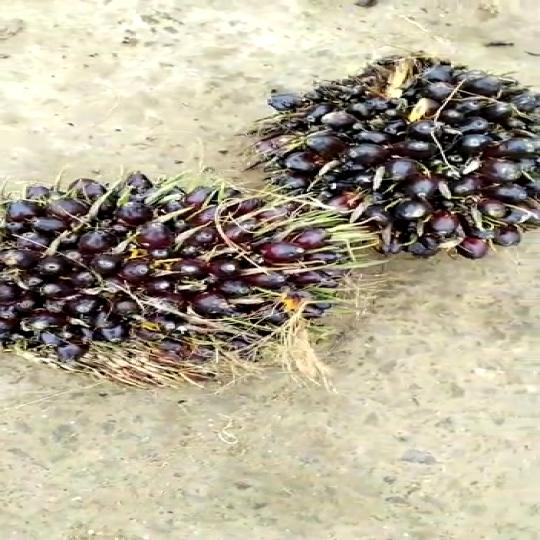mentah: (0, 170, 371, 388), (252, 51, 540, 268)
